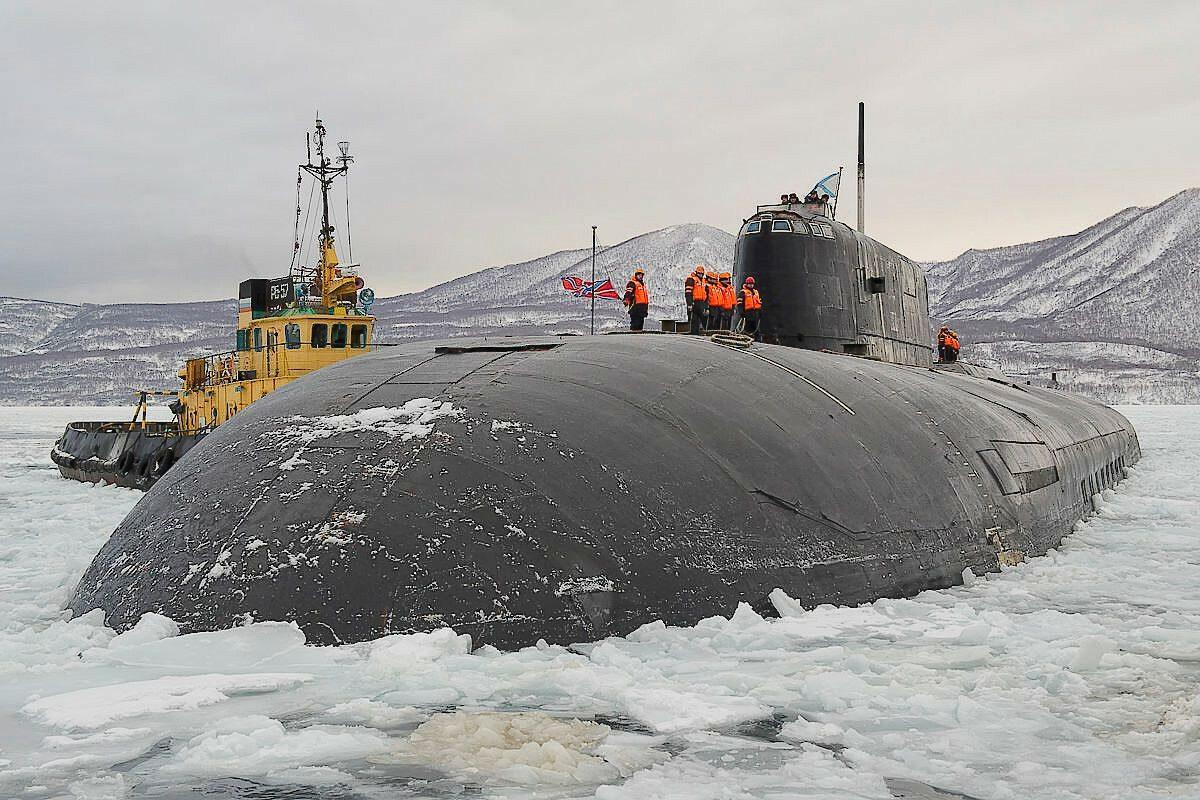Submarine: (82, 30, 1200, 800)
